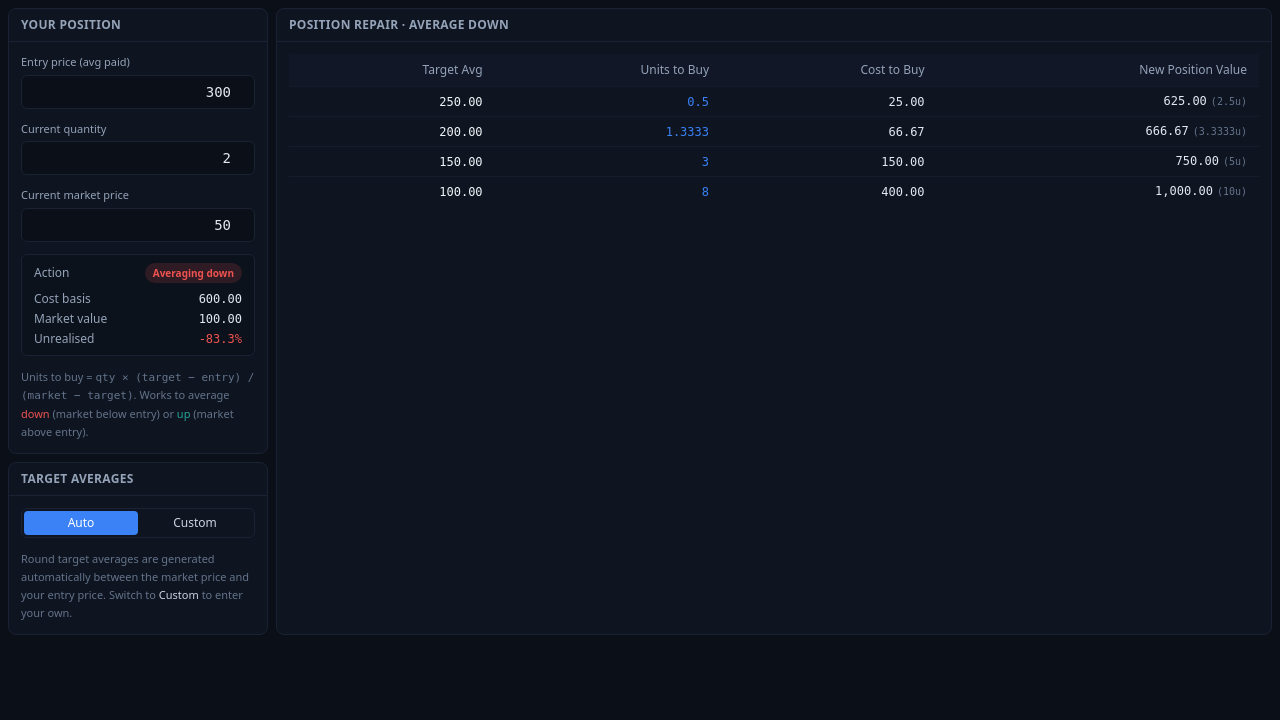
Test: PositionRepairPanel › flags custom targets that are outside the reachable range
Click the button "Custom" at (195, 523), box [138, 511, 252, 535]
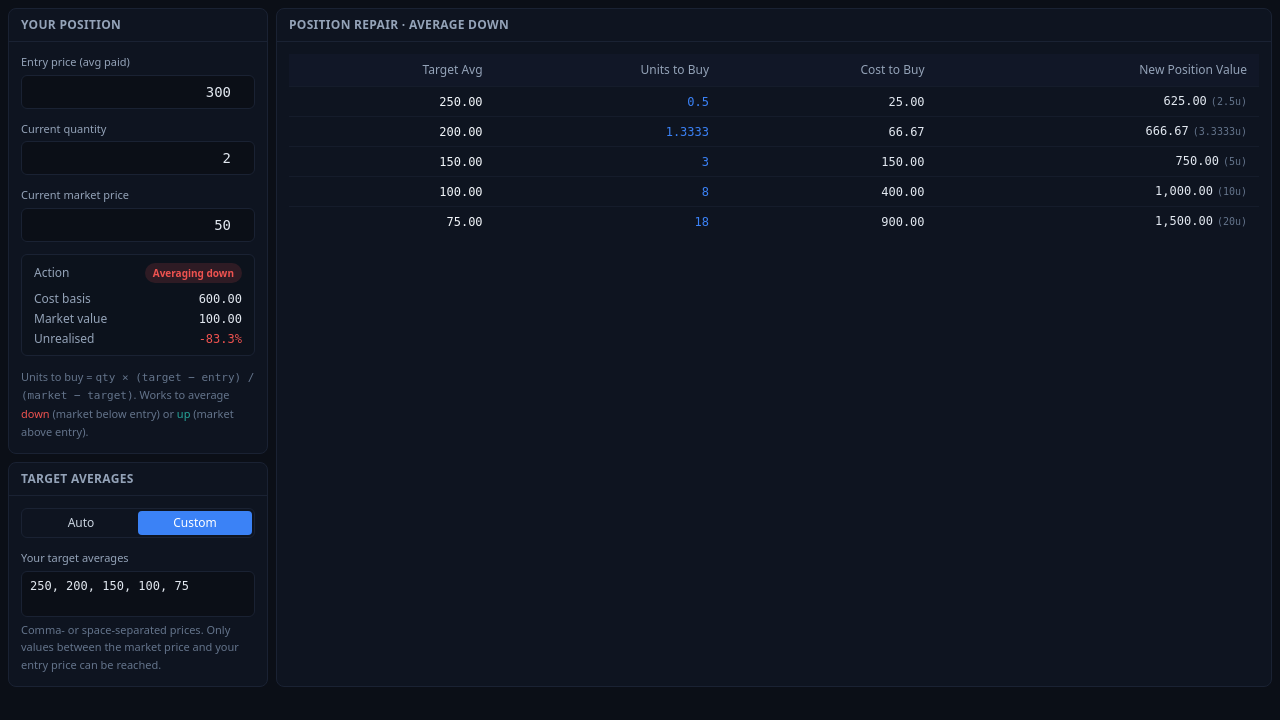
350 is above entry (300) and 10 is below market (50) → both skipped.
Replace the text in the text box labelled "Your target averages" with "350, 150, 10" at (138, 594), box [21, 570, 255, 616]
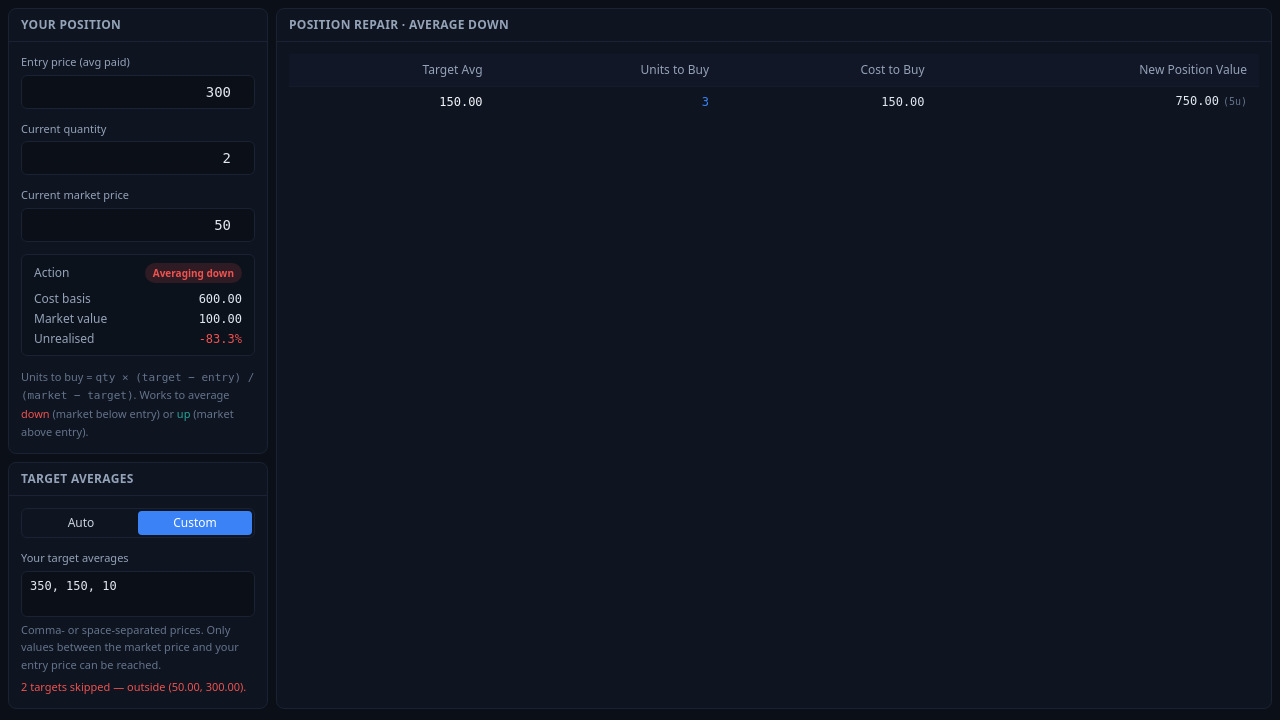
Expected: the 1st text "150.00" is shown, [289, 86, 495, 116]
Expected: the text "2 targets skipped — outside (50.00, 300.00)." is shown, [21, 678, 255, 696]
